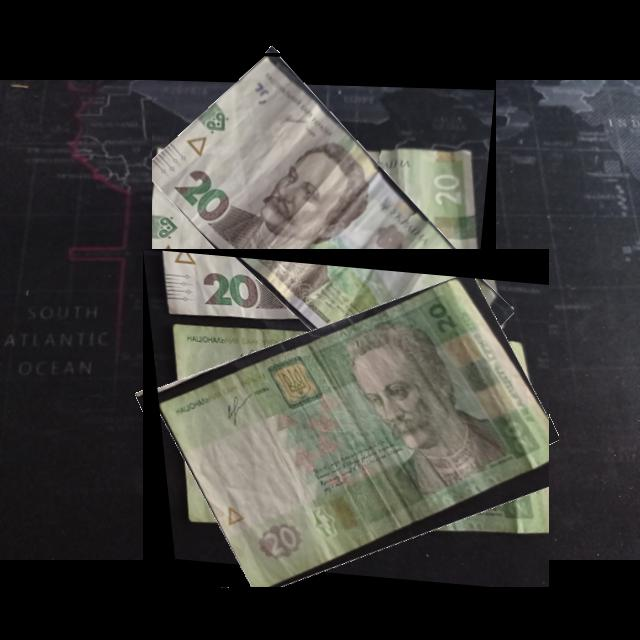20uah: (157, 271, 550, 588), (152, 56, 483, 393)
